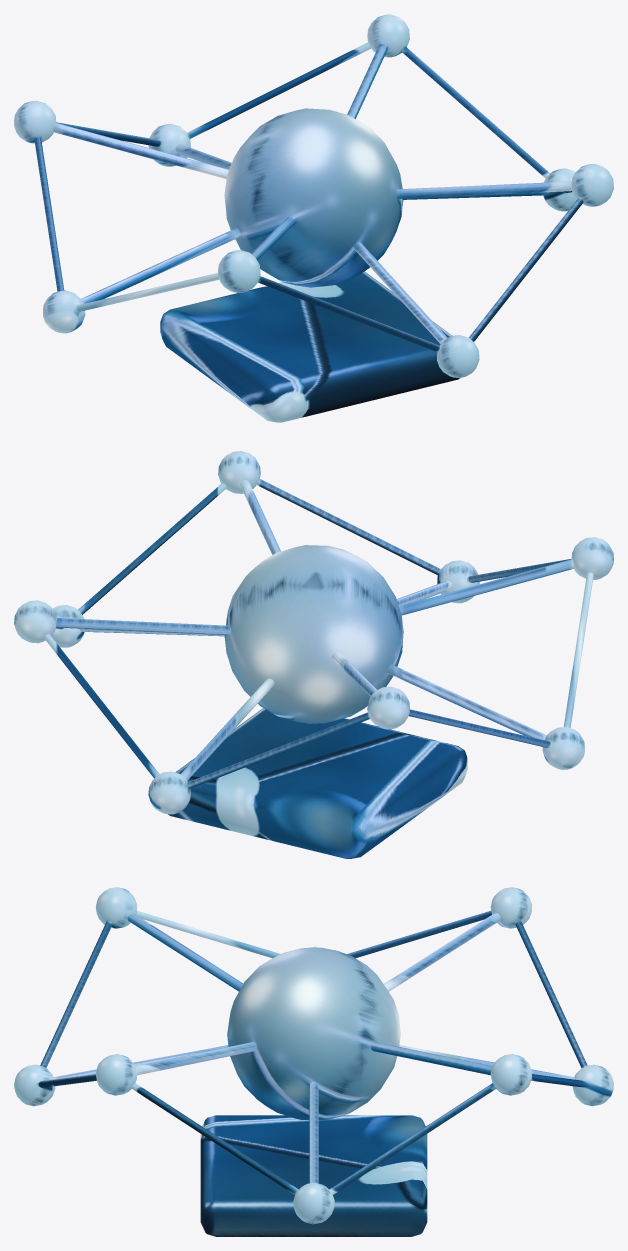
File: ai-hero.glb
3 views of the same model, one above another, from view 1: azimuth 30°, elevation 25°; view 2: azimuth 150°, elevation 25°; view 3: azimuth 270°, elevation 25° (orthographic). The views are drawn at different scales.
Parts seen in each view (by area): view 1: Core foundation, Sphere, Cylinder.006, Cylinder.014, Cylinder.008, Cylinder.003, Sphere.006, Cylinder.011, Sphere.007, Sphere.008, Cylinder.001, Sphere.005 (+12 smaller); view 2: Core foundation, Sphere, Cylinder.010, Cylinder.002, Cylinder.008, Cylinder.013, Sphere.004, Cylinder.005, Sphere.003, Sphere.002, Cylinder.015, Sphere.005 (+12 smaller); view 3: Core foundation, Sphere, Cylinder.015, Cylinder.001, Sphere.001, Sphere.002, Sphere.008, Cylinder.006, Cylinder.010, Sphere.004, Sphere.006, Sphere.007 (+10 smaller).
Part boxes in pixels (left/top/right/bottom): Core foundation: left=160, top=271, right=459, bottom=422; Sphere: left=224, top=108, right=403, bottom=287; Cylinder.006: left=53, top=123, right=228, bottom=178; Cylinder.014: left=396, top=181, right=571, bottom=198; Cylinder.008: left=81, top=228, right=240, bottom=303; Cylinder.003: left=187, top=42, right=370, bottom=138; Sphere.006: left=218, top=250, right=260, bottom=292; Cylinder.011: left=258, top=276, right=440, bottom=352; Sphere.007: left=437, top=335, right=479, bottom=377; Sphere.008: left=571, top=164, right=613, bottom=206; Cylinder.001: left=401, top=46, right=549, bottom=178; Sphere.005: left=43, top=290, right=85, bottom=333; Core foundation: left=168, top=708, right=467, bottom=858; Sphere: left=224, top=545, right=403, bottom=723; Cylinder.010: left=399, top=559, right=574, bottom=615; Cylinder.002: left=56, top=618, right=230, bottom=635; Cylinder.008: left=387, top=664, right=546, bottom=739; Cylinder.013: left=256, top=479, right=440, bottom=575; Sphere.004: left=367, top=686, right=409, bottom=729; Cylinder.005: left=187, top=712, right=370, bottom=788; Sphere.003: left=148, top=771, right=190, bottom=814; Sphere.002: left=14, top=600, right=56, bottom=643; Cylinder.015: left=78, top=483, right=226, bottom=614; Sphere.005: left=542, top=727, right=584, bottom=769; Core foundation: left=200, top=1115, right=427, bottom=1236; Sphere: left=227, top=947, right=400, bottom=1120; Cylinder.015: left=131, top=1083, right=298, bottom=1194; Cylinder.001: left=329, top=1083, right=496, bottom=1194; Sphere.001: left=293, top=1182, right=334, bottom=1224; Sphere.002: left=490, top=1054, right=532, bottom=1095; Sphere.008: left=95, top=1054, right=137, bottom=1095; Cylinder.006: left=384, top=912, right=500, bottom=991; Cylinder.010: left=127, top=912, right=243, bottom=991; Sphere.004: left=490, top=887, right=532, bottom=928; Sphere.006: left=96, top=887, right=137, bottom=928; Sphere.007: left=14, top=1064, right=55, bottom=1106.
Size of the model in its own units: 3.18 by 1.4 by 3.18.
1 material, 1 textured.
